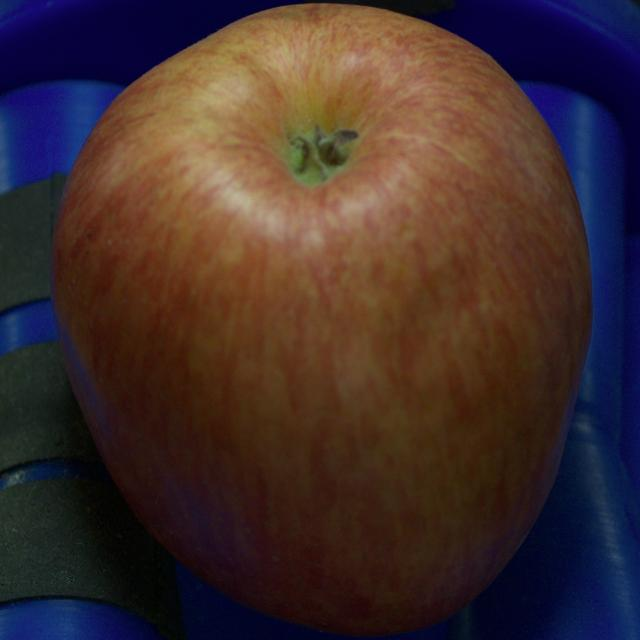apple: (51, 4, 591, 635)
bruise: (397, 256, 506, 405)
pest: (86, 230, 92, 238)
